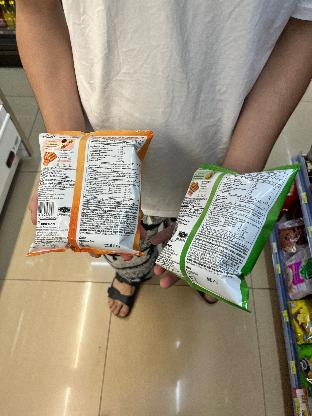Plastic Packaging: (156, 159, 274, 303), (27, 132, 156, 252)
